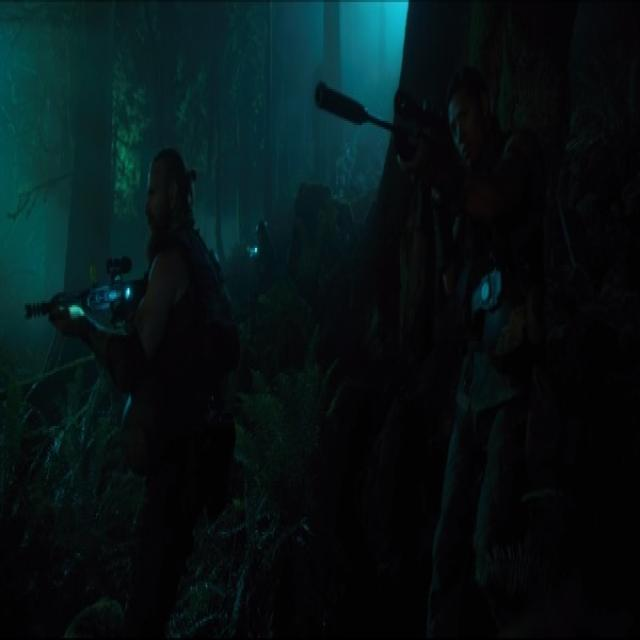rifle: (24, 252, 152, 341)
